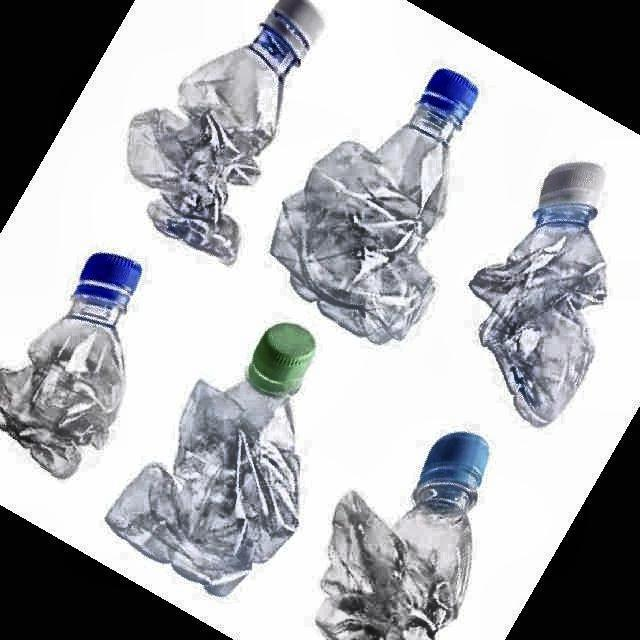plastic: (106, 324, 315, 596), (272, 71, 476, 343), (129, 0, 322, 263), (316, 432, 489, 640), (470, 162, 606, 426), (0, 252, 141, 478)
